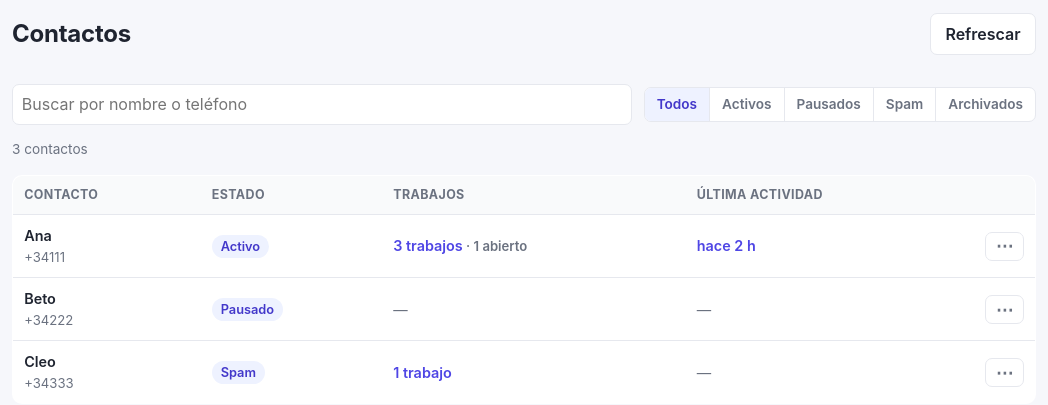
Test case: sin coincidencias lo dice en vez de mostrar una tabla vacía
Expected: the text "Ana" is shown, [24,227,52,244]
Type "zzzz" into the search field named "Buscar contactos". click: coordinates (322, 104)
box: [12,84,632,125]
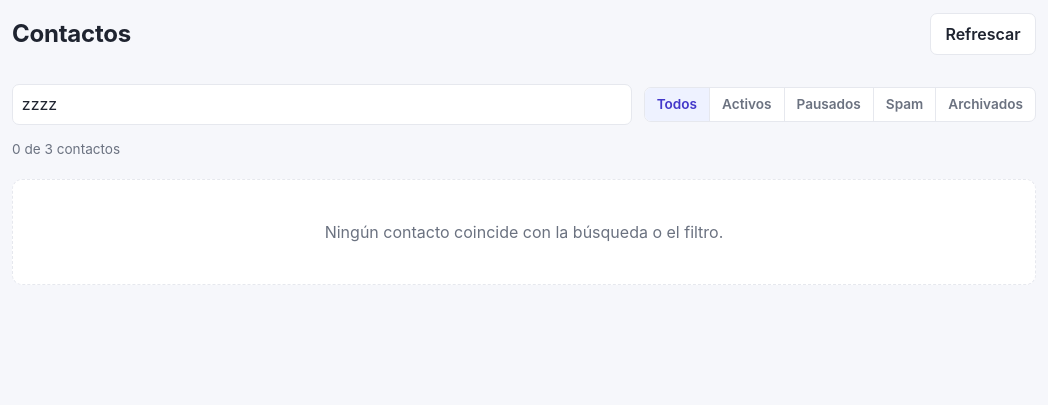
Now the text "Ningún contacto coincide con la búsqueda o el filtro." is shown, box [325,222,723,242]
